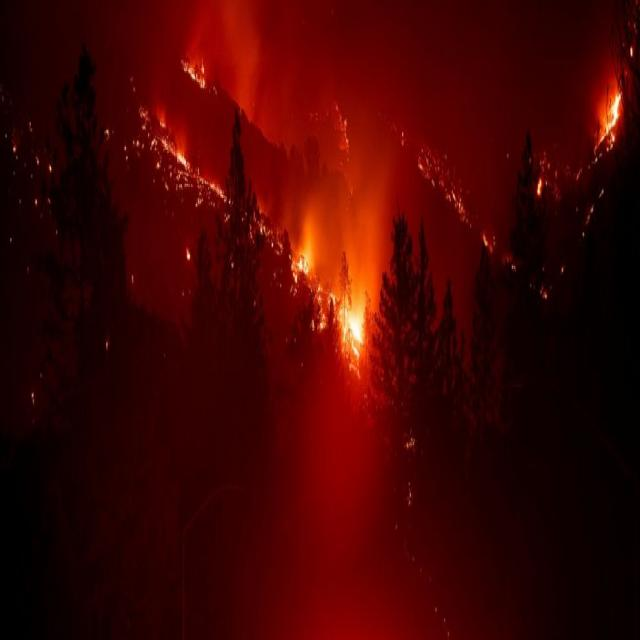Fire: (319, 254, 394, 405), (413, 147, 487, 240), (177, 42, 219, 93), (604, 79, 627, 138), (165, 134, 195, 172), (299, 237, 317, 280)
